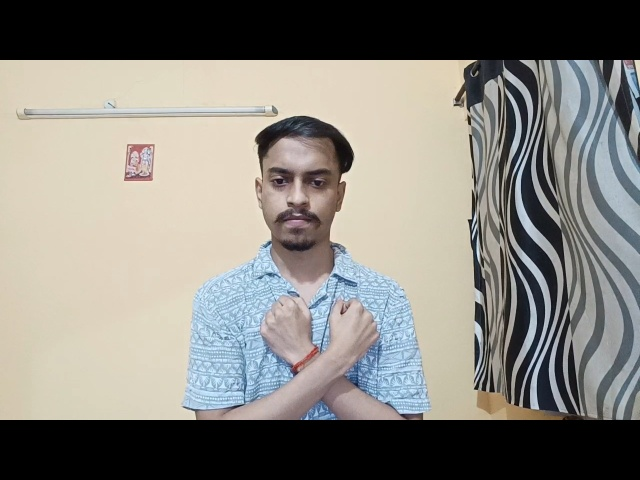Love: (247, 280, 402, 421)
